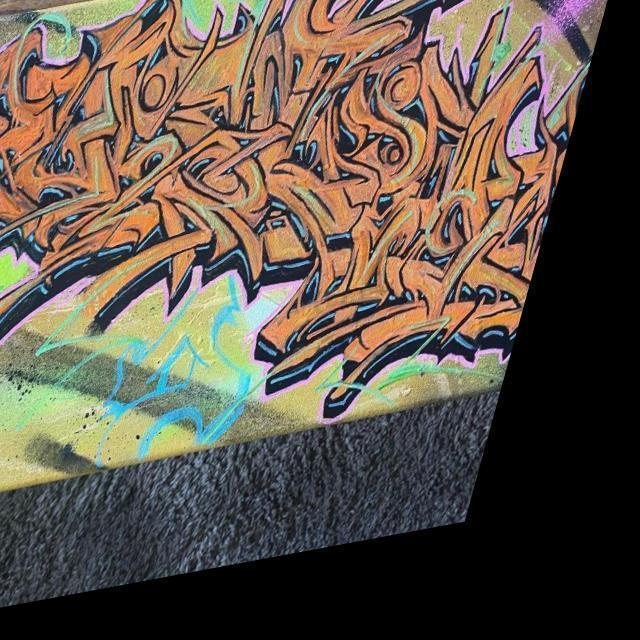nonspitting: (0, 0, 576, 418)
